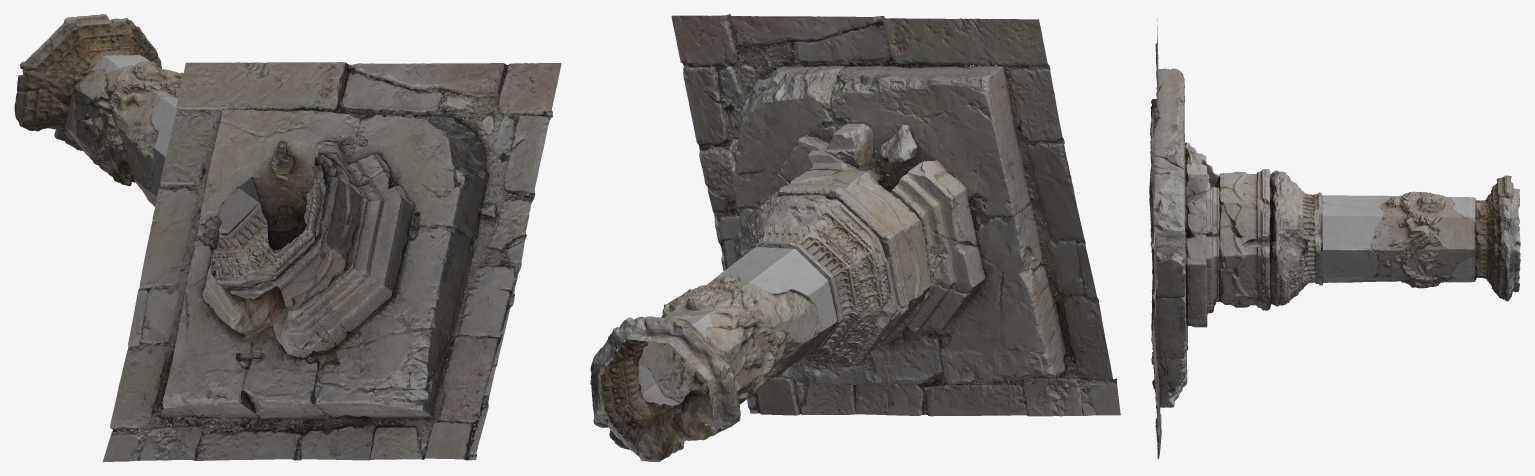
Rendered from SagalassosColumnAgora.fbx.
3 renders of one model, left to right at view 1: azimuth 30°, elevation 25°; view 2: azimuth 150°, elevation 25°; view 3: azimuth 270°, elevation 25°, orthographic. The views are drawn at different scales.
Visible parts, largest first — view 1: Model; view 2: Model; view 3: Model.
Boxes of the visible parts, box(x1,y1,x2,y2) form: Model: box(14, 14, 561, 461); Model: box(590, 14, 1120, 461); Model: box(1149, 18, 1520, 458).
Size of the model in its own units: 16.69 by 16.04 by 16.38.
Materials: 2 (2 with a texture image).
